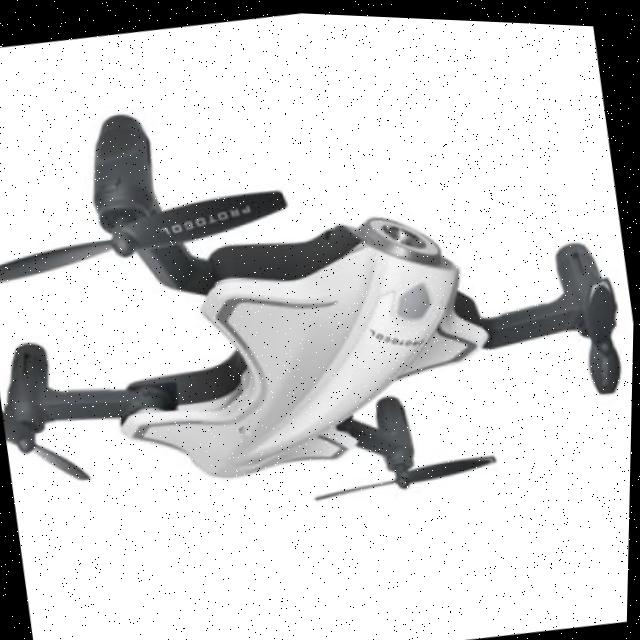drones: (0, 8, 640, 576)
